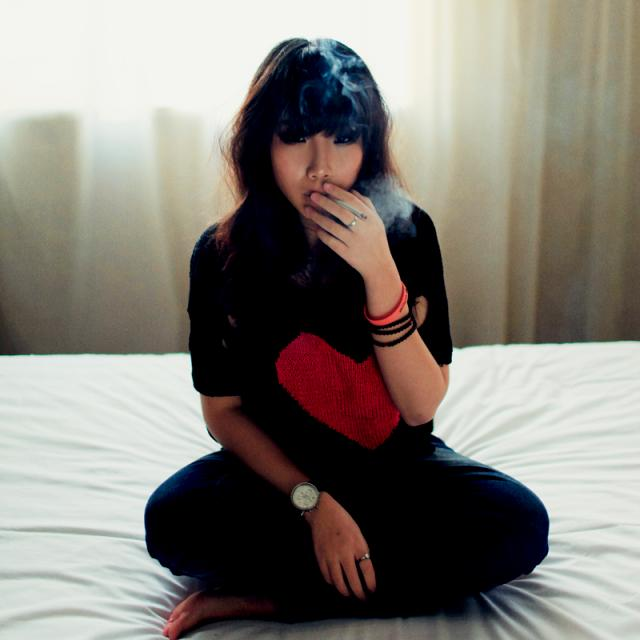smoke: (324, 199, 368, 227)
